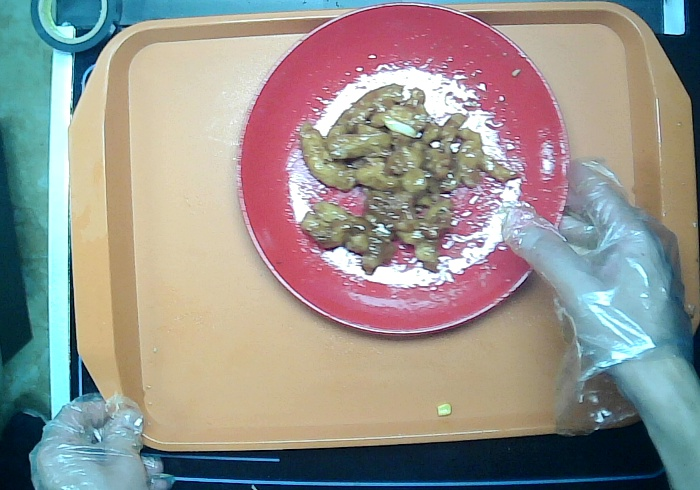HZYJPL-Hong_Se_Yuan_Pan: (236, 4, 569, 339)
